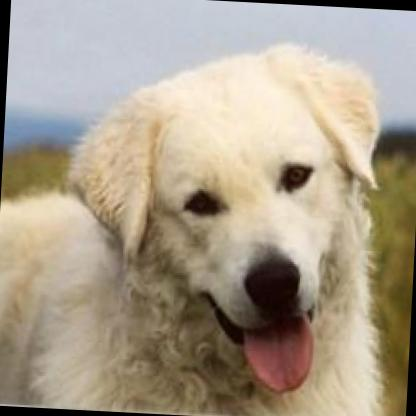kuvasz: (0, 21, 416, 416)
